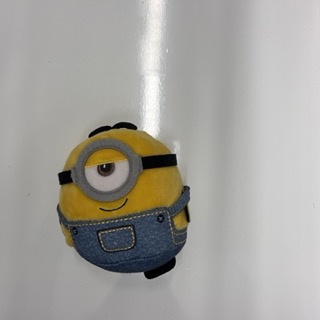minion: (57, 122, 191, 279)
